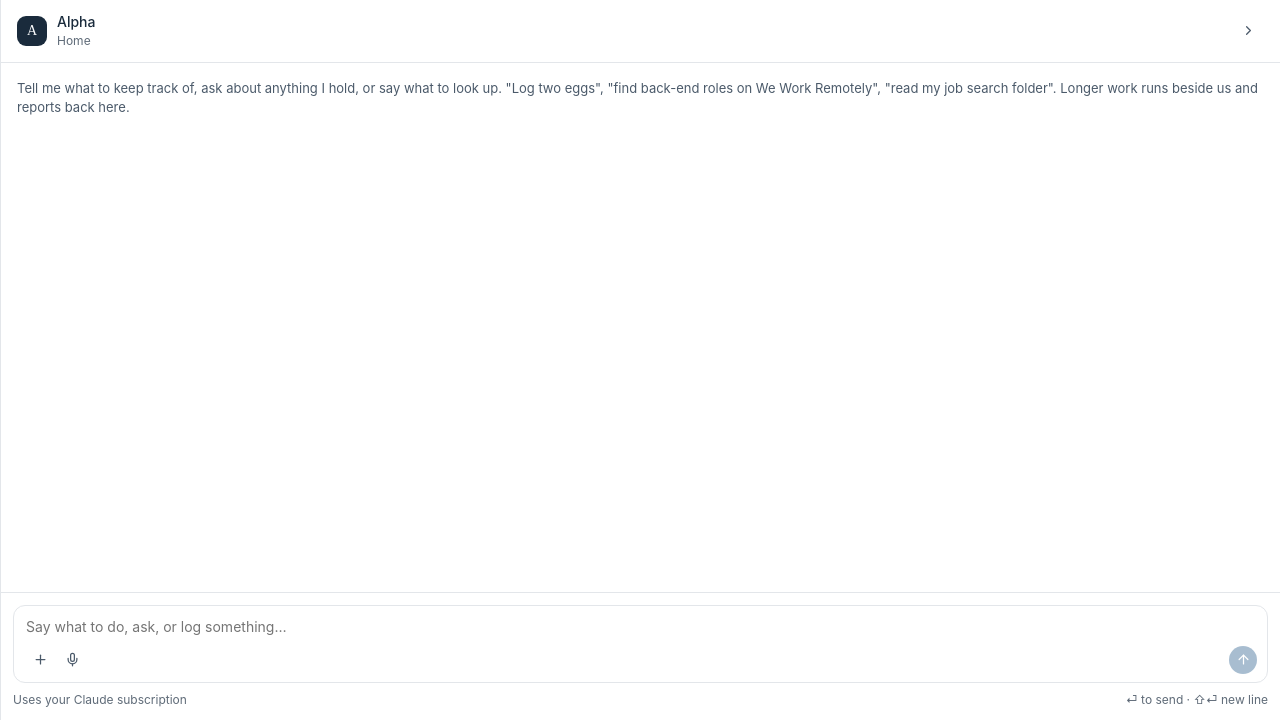
Test: @ in the composer › offers the agents whose name begins with what is typed, completes the name on a tap, and sends only a complete one
In the text box: (642, 628) 26,616 -> 1257,640, type "@d"
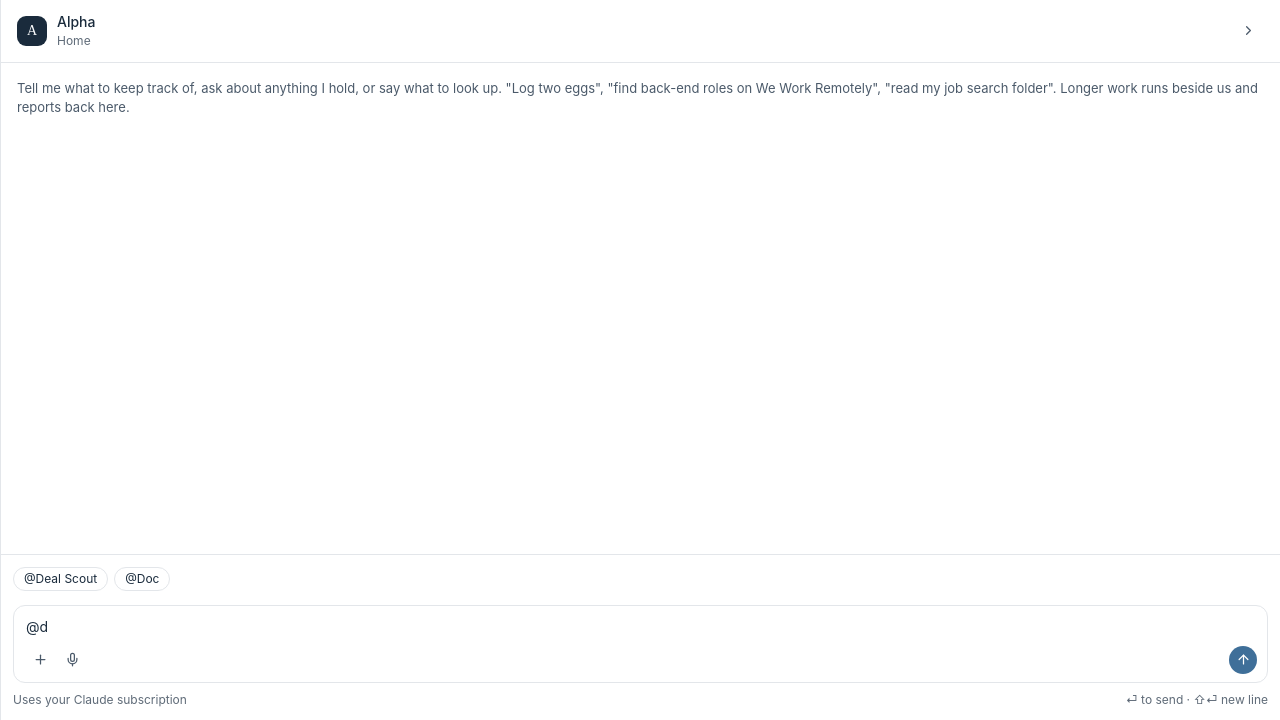
Expected: the options read "@Deal Scout", "@Doc", in this order, 13,567 -> 108,591; 114,567 -> 170,591
Press Enter in the text box, box 26,616 -> 1257,640
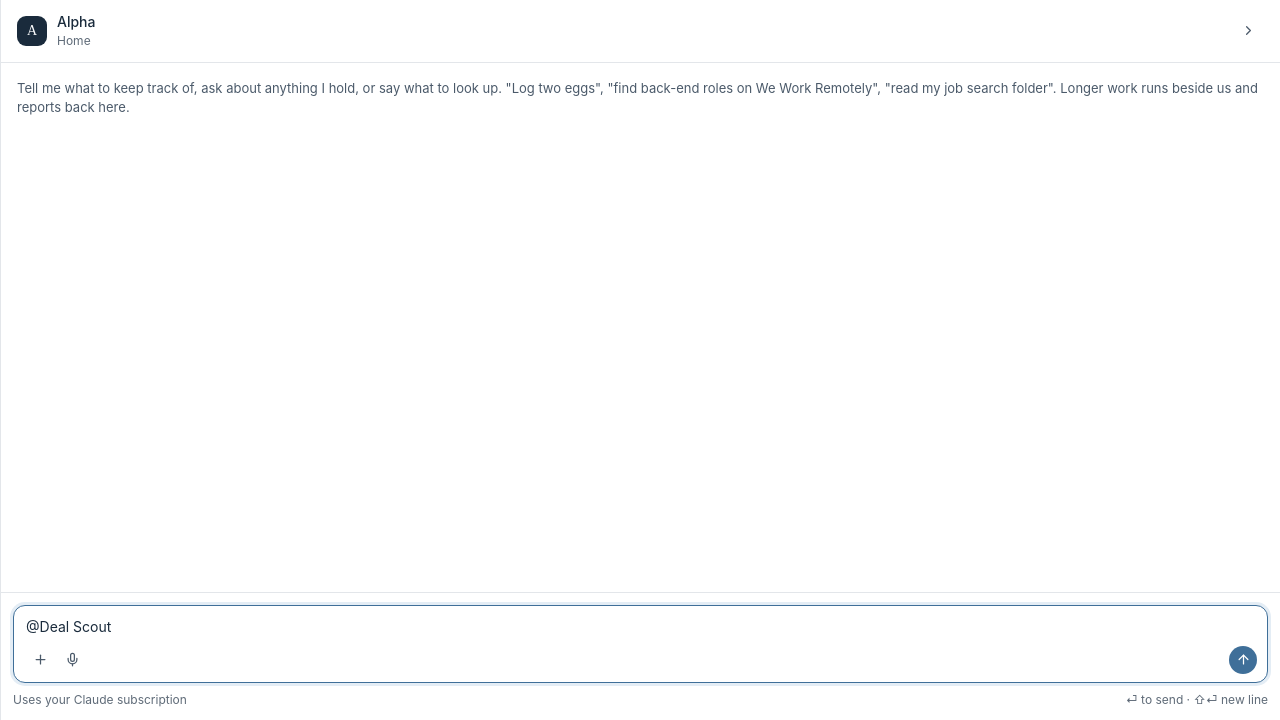
Expected: the text box holds "@Deal Scout "
Expected: the list "Agents" is gone
Replace the text in the text box with "@Deal Scout what's new?": (642, 628) 26,616 -> 1257,640
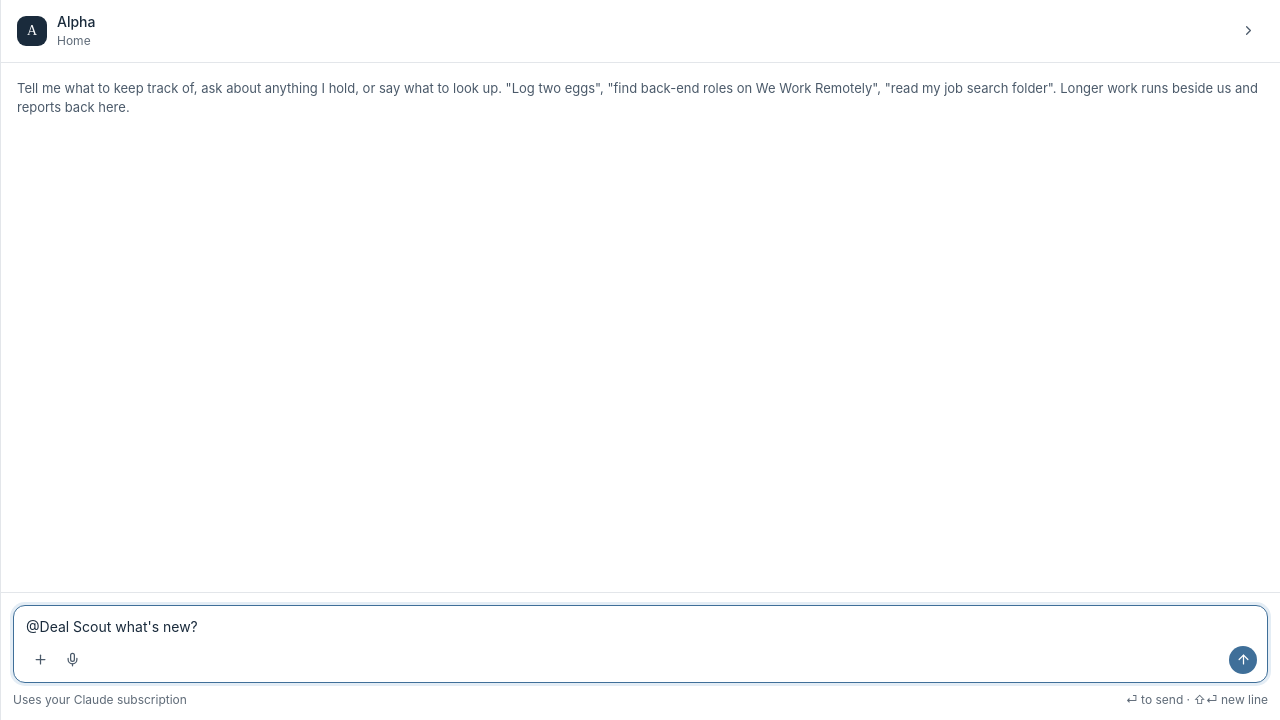
Press Enter in the text box, box 26,616 -> 1257,640
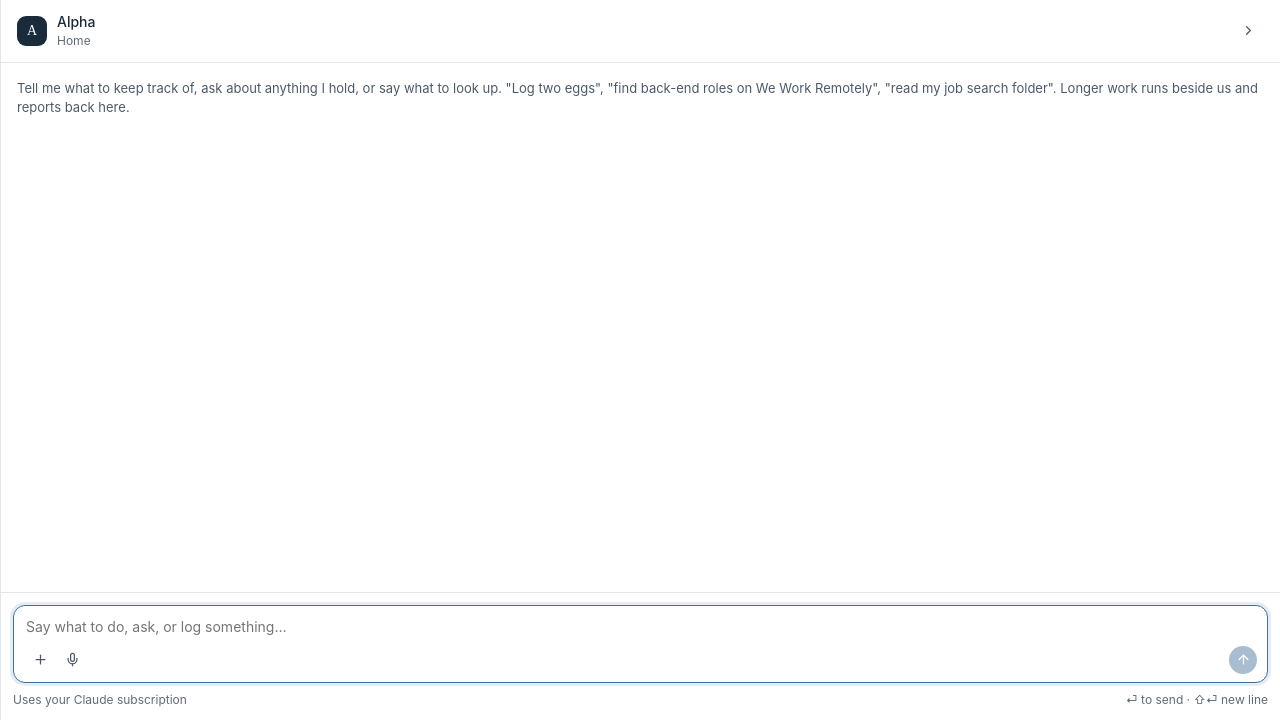
In the text box: (642, 628) 26,616 -> 1257,640, type "@Do"
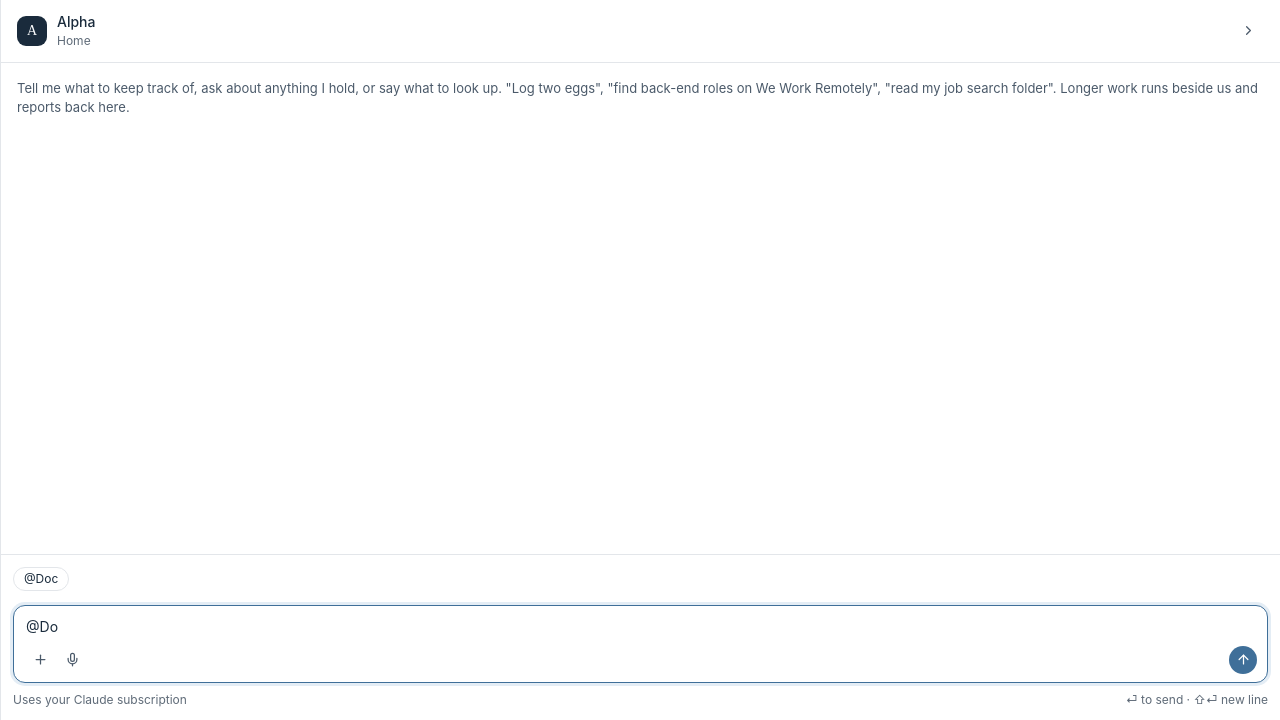
Click the option "@Doc": (41, 579) 13,567 -> 69,591
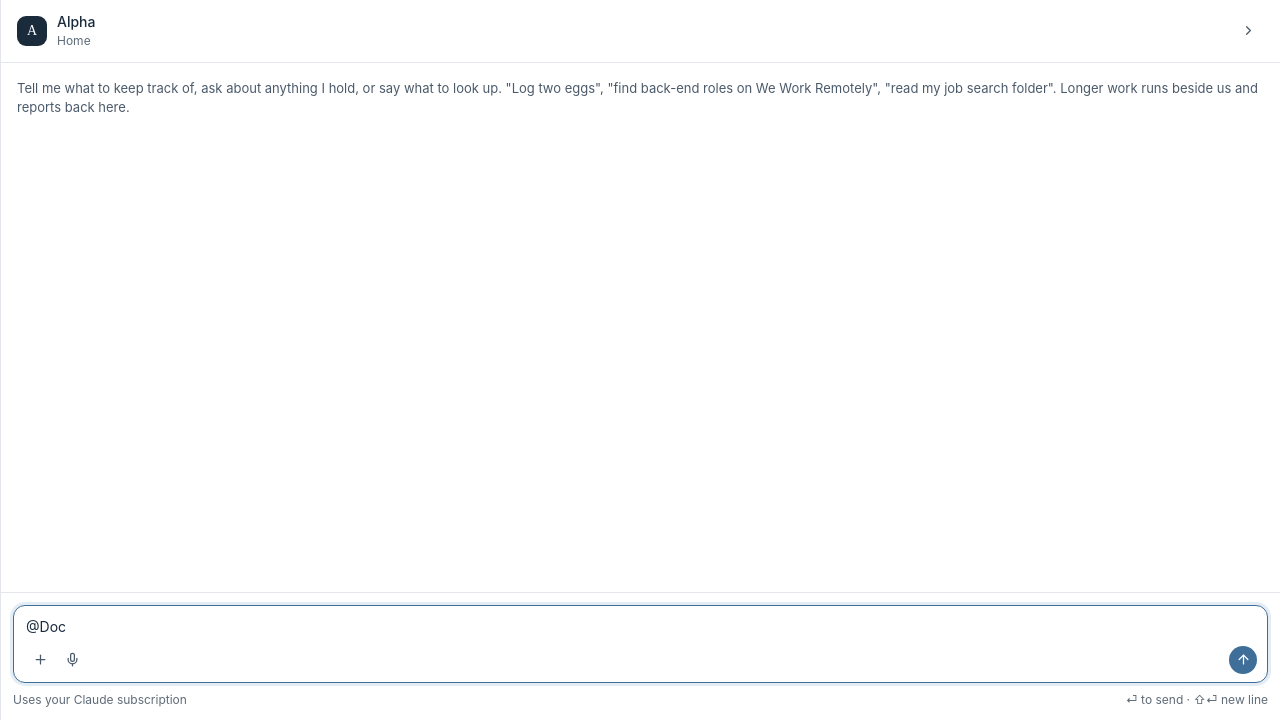
Expected: the text box holds "@Doc ", 26,616 -> 1257,640
